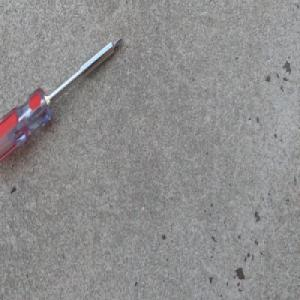Screwdriver: (0, 35, 123, 170)
